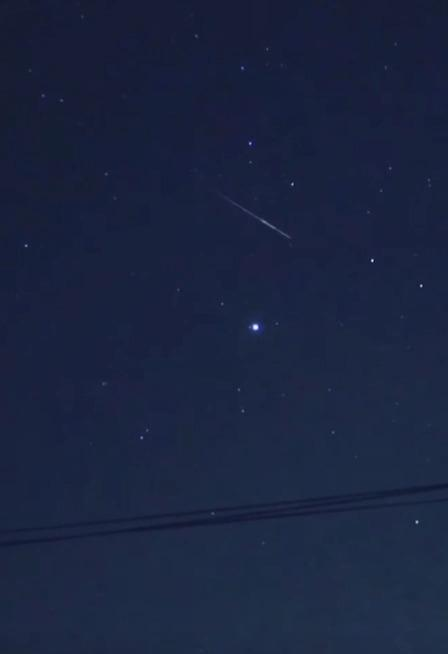meteorite: (208, 186, 293, 240)
